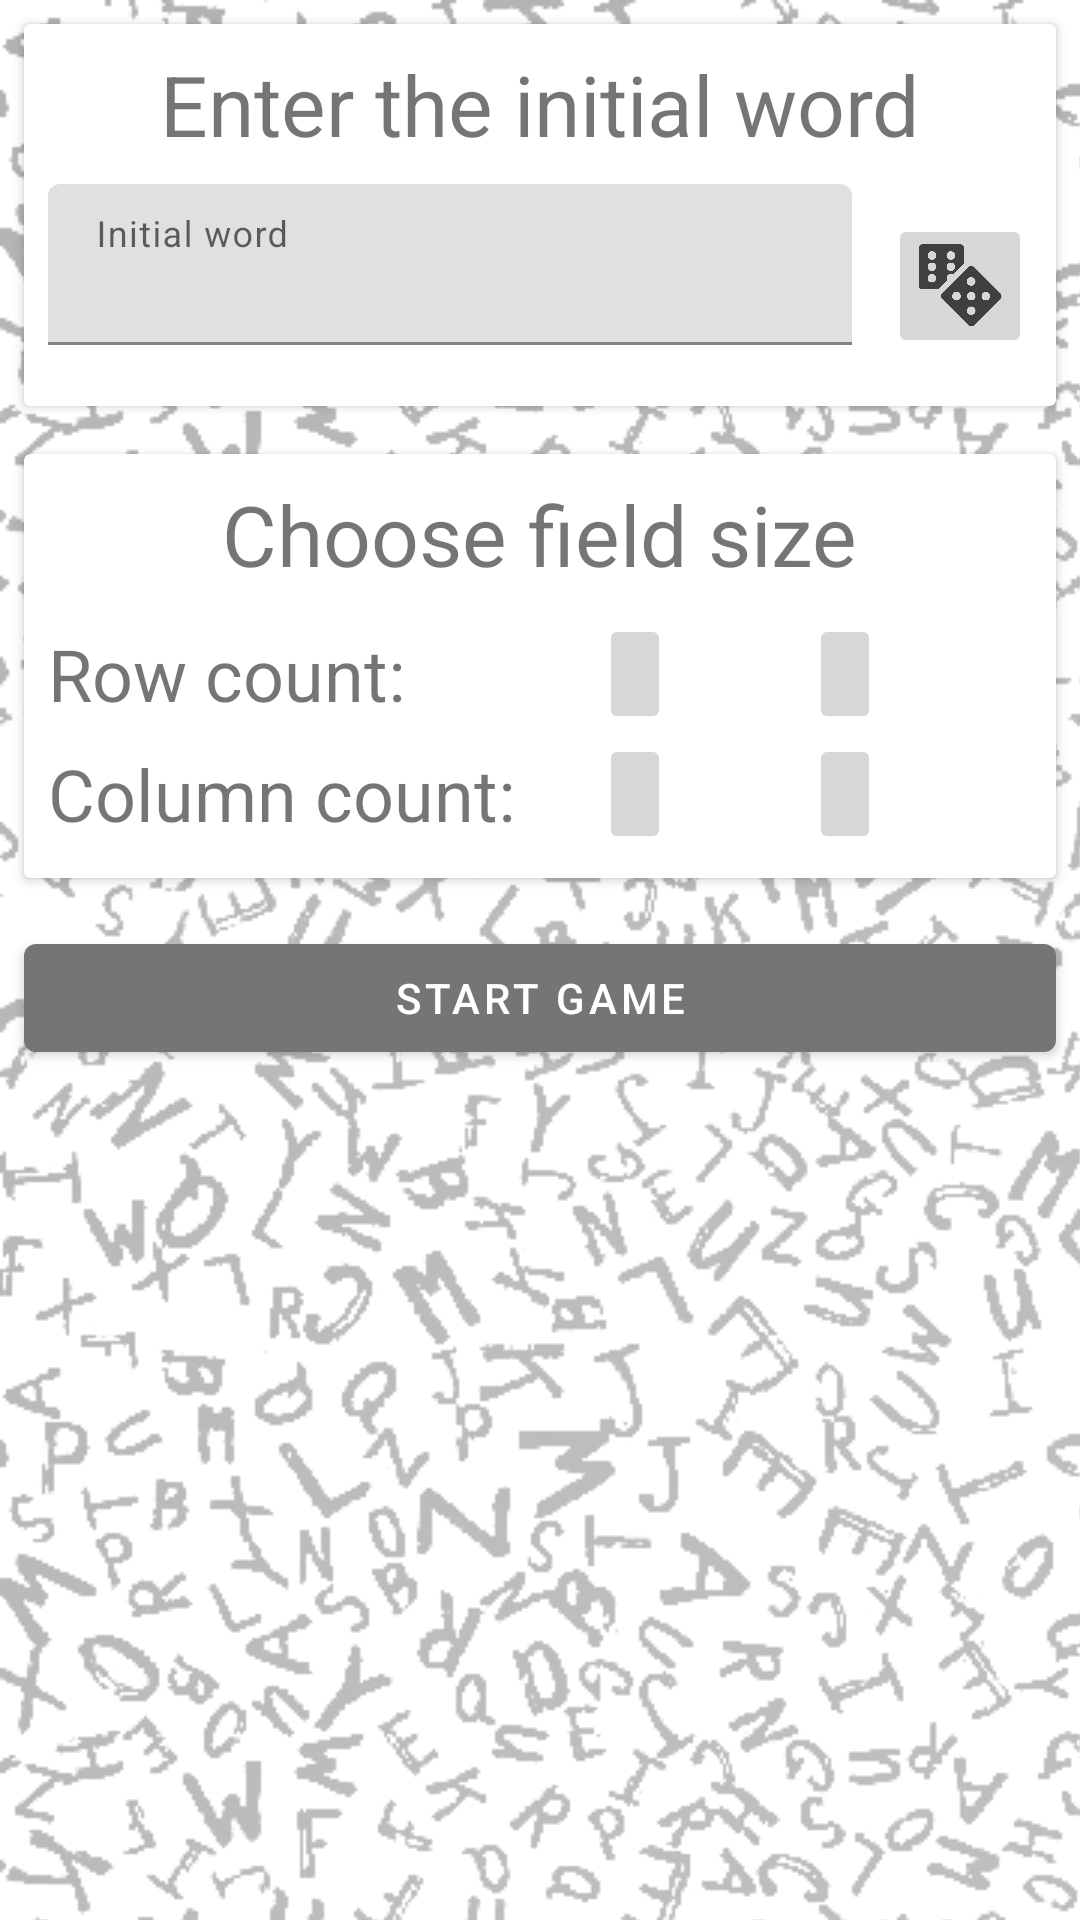

Icons on this 1080px×1920px Android screen, each with the point to tap as (x=x, y=y):
dice: (x=960, y=286)
